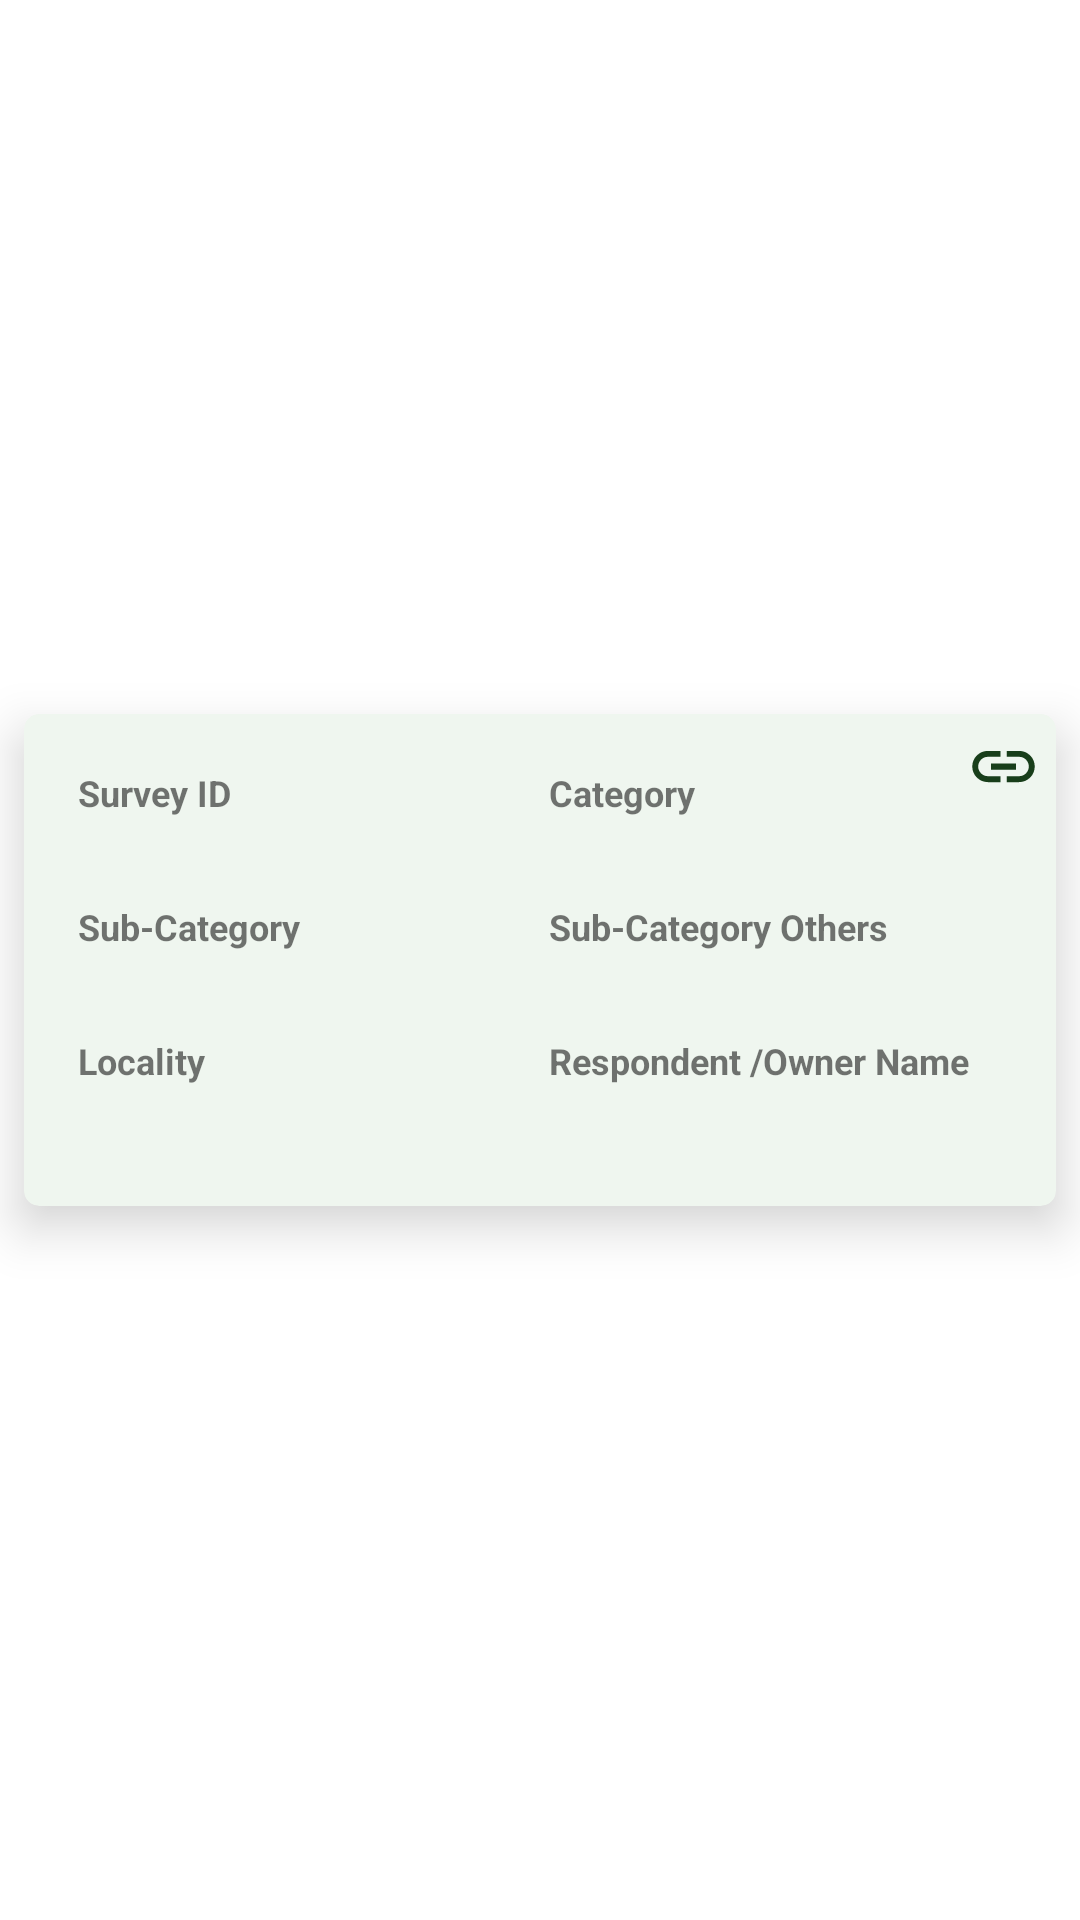

Screen size 1080px×1920px. Icon name, then its center in pixels as [x,y]:
link: [1003,767]
